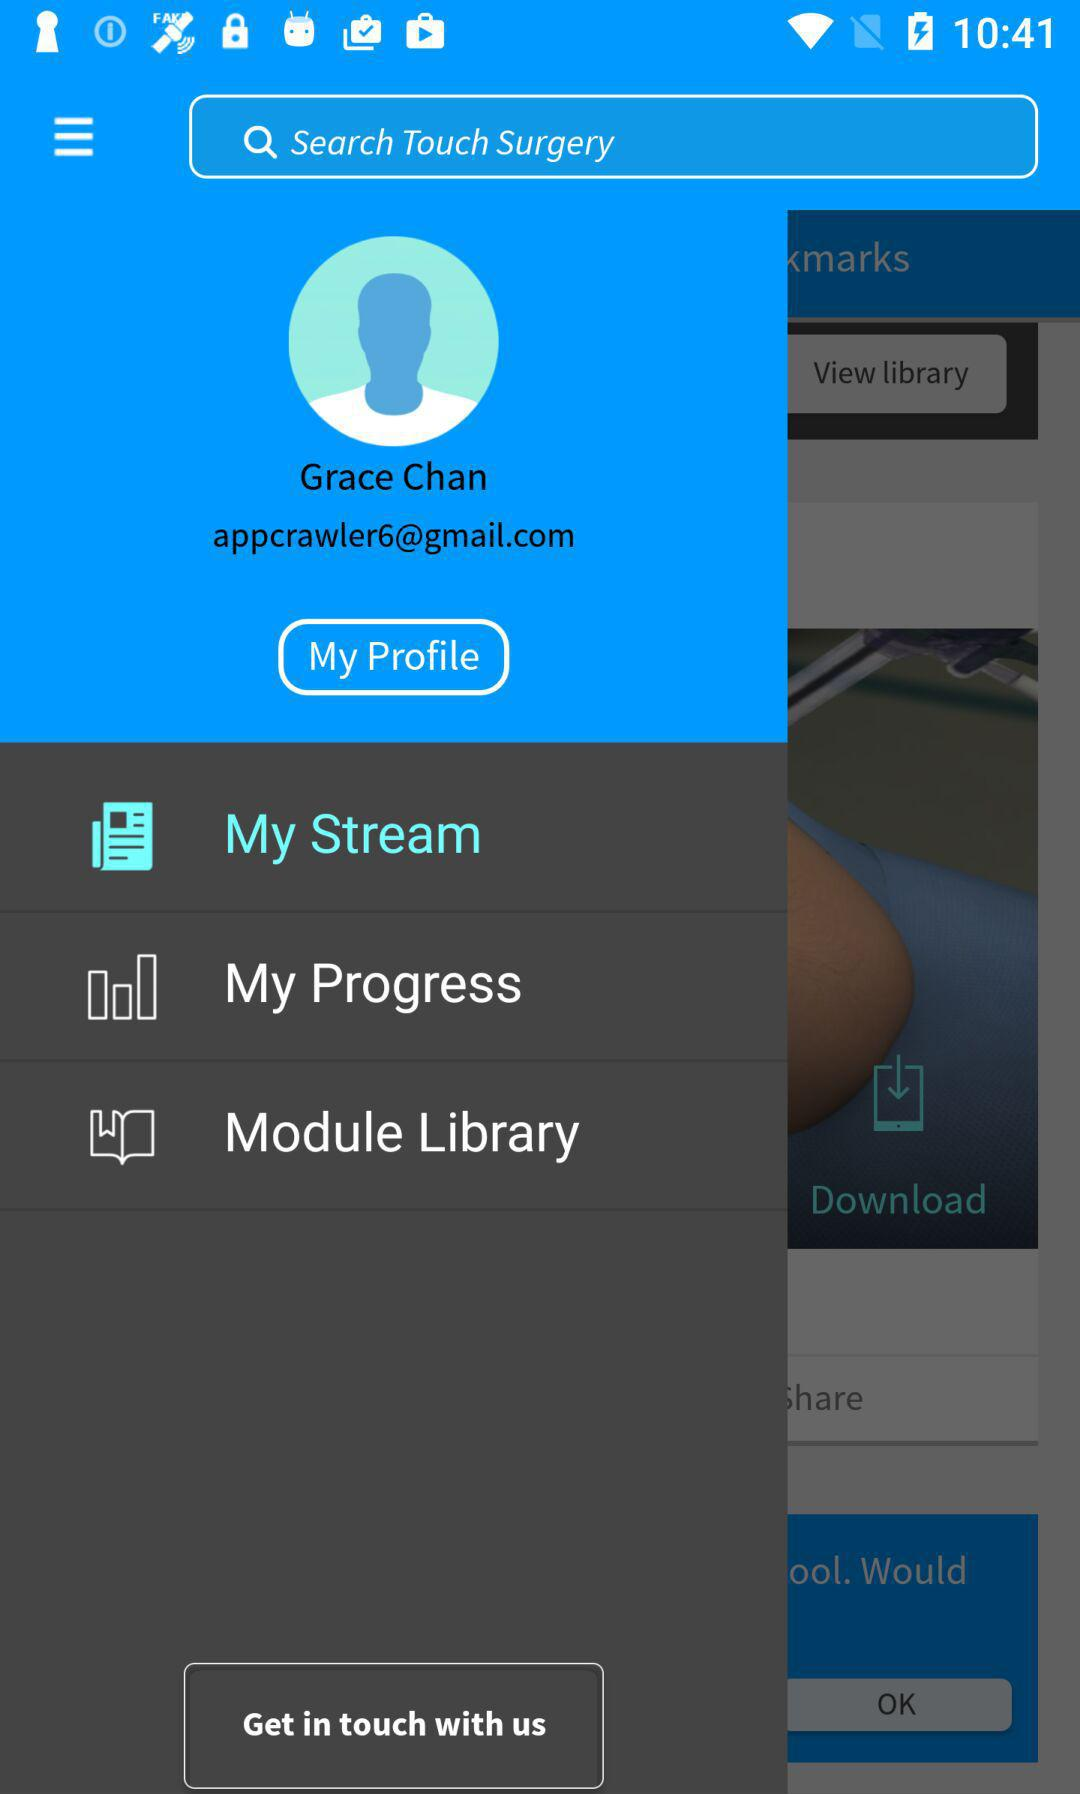Drawer: (1, 211, 788, 1794)
EditText: (190, 94, 1038, 179)
Icon: (290, 236, 500, 448), (87, 953, 159, 1023), (91, 801, 155, 873), (90, 1108, 158, 1167), (53, 117, 95, 159)
Text: (225, 1108, 582, 1165), (225, 961, 523, 1016), (225, 812, 480, 866), (213, 520, 575, 557), (300, 460, 488, 493)
TextButton: (184, 1662, 605, 1790), (278, 618, 511, 697)
Toolbar: (1, 64, 1080, 211)
UpperTaskBar: (1, 1, 1080, 64)
